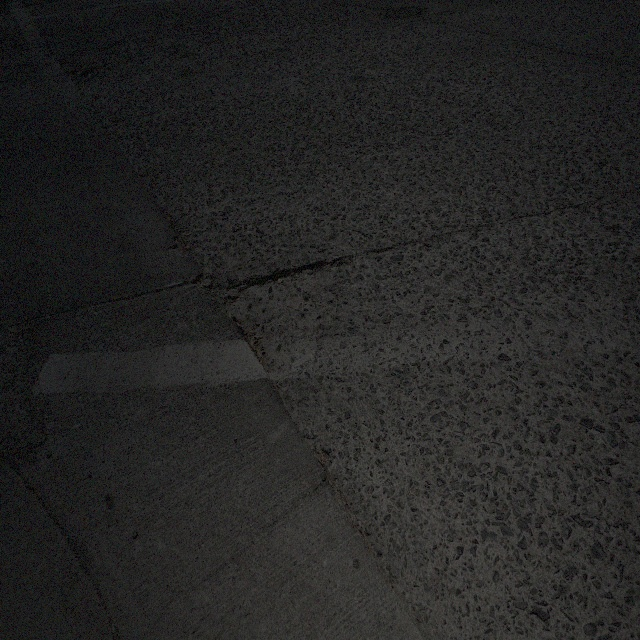pothole: (195, 272, 247, 314), (1, 36, 24, 53), (78, 65, 98, 81), (106, 40, 116, 66), (29, 48, 54, 56)
